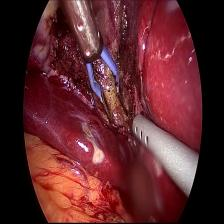Bipolar: (73, 22, 132, 133)
Irrigator: (131, 112, 160, 162)
